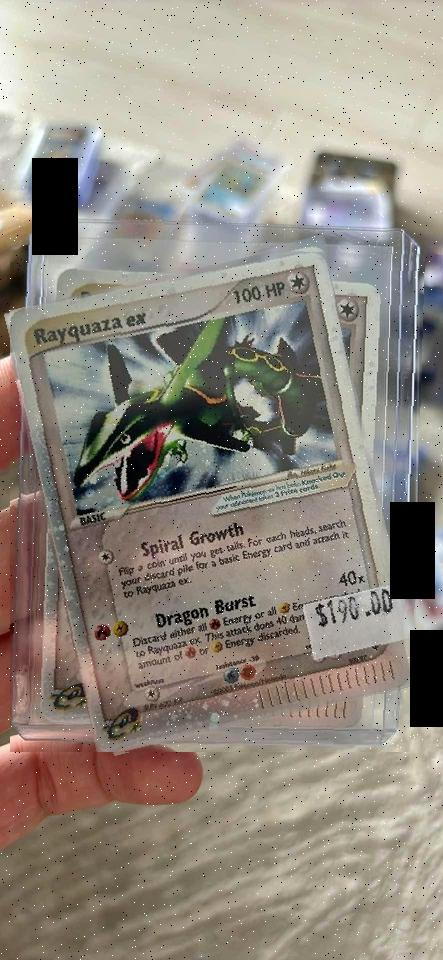card: (10, 252, 413, 752)
